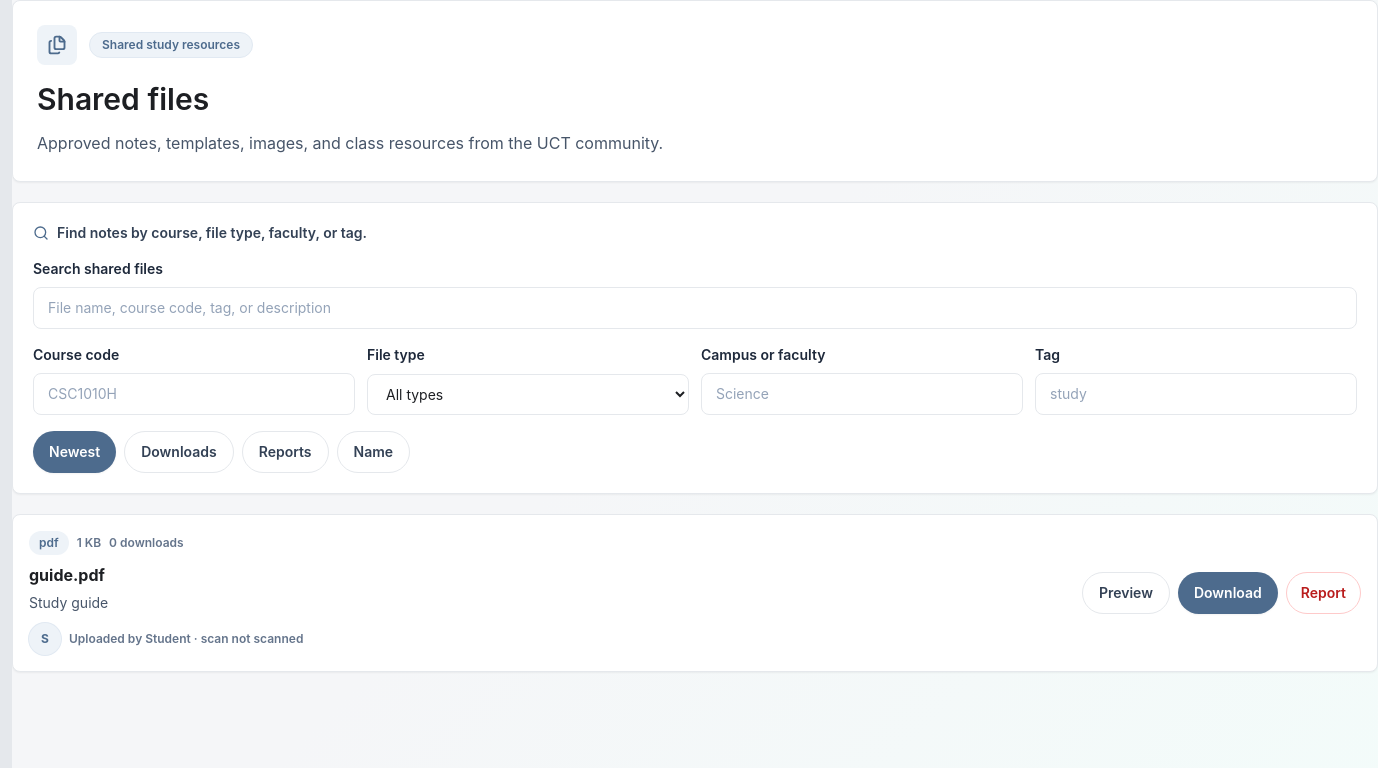
it: FilesPage › shows shared file metadata to logged-out visitors but gates file actions
Expected: the heading "guide.pdf" is shown, [29,565,105,585]
Click the button "Preview": (1126, 593) [1082,572,1170,614]
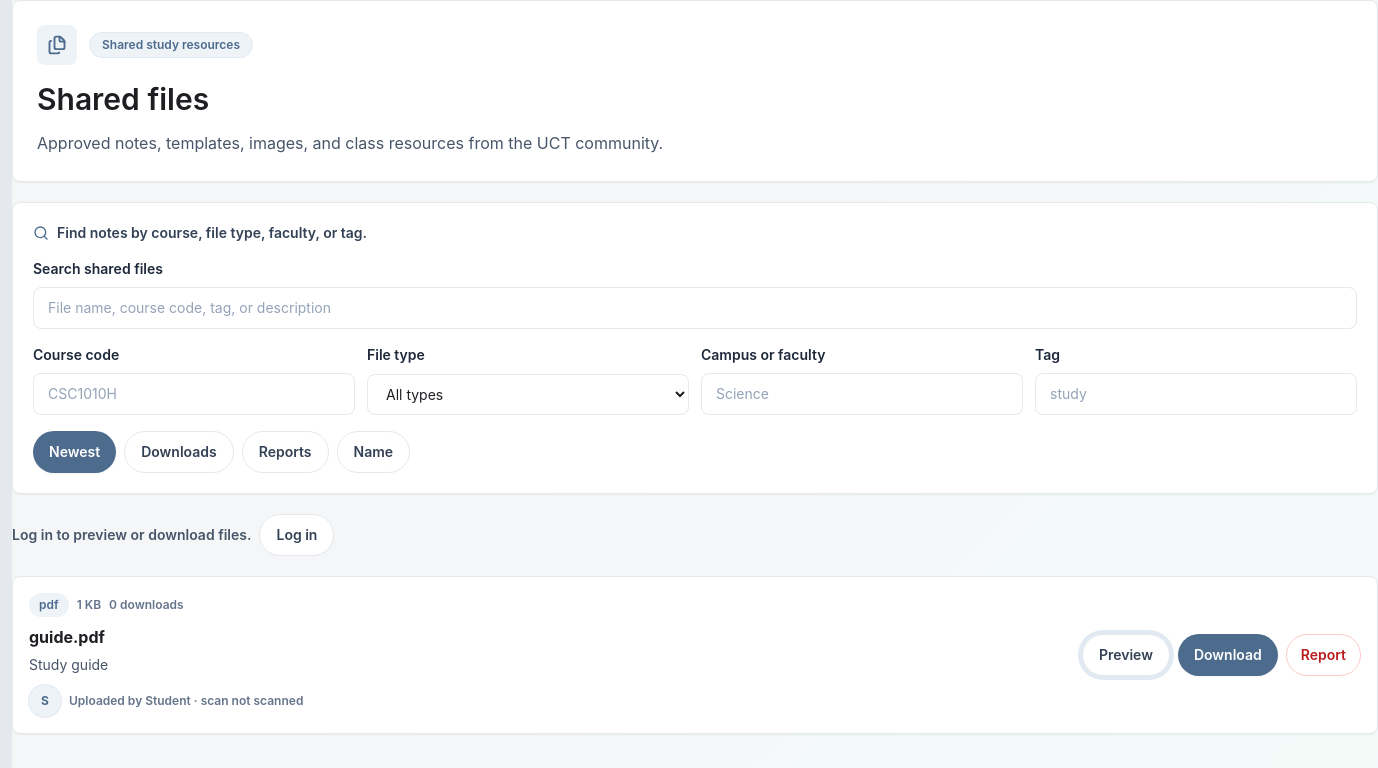
Expected: the text "Log in to preview or download files." is shown, [12,525,252,545]
Click the button "Download": (1228, 655) [1178,634,1278,676]
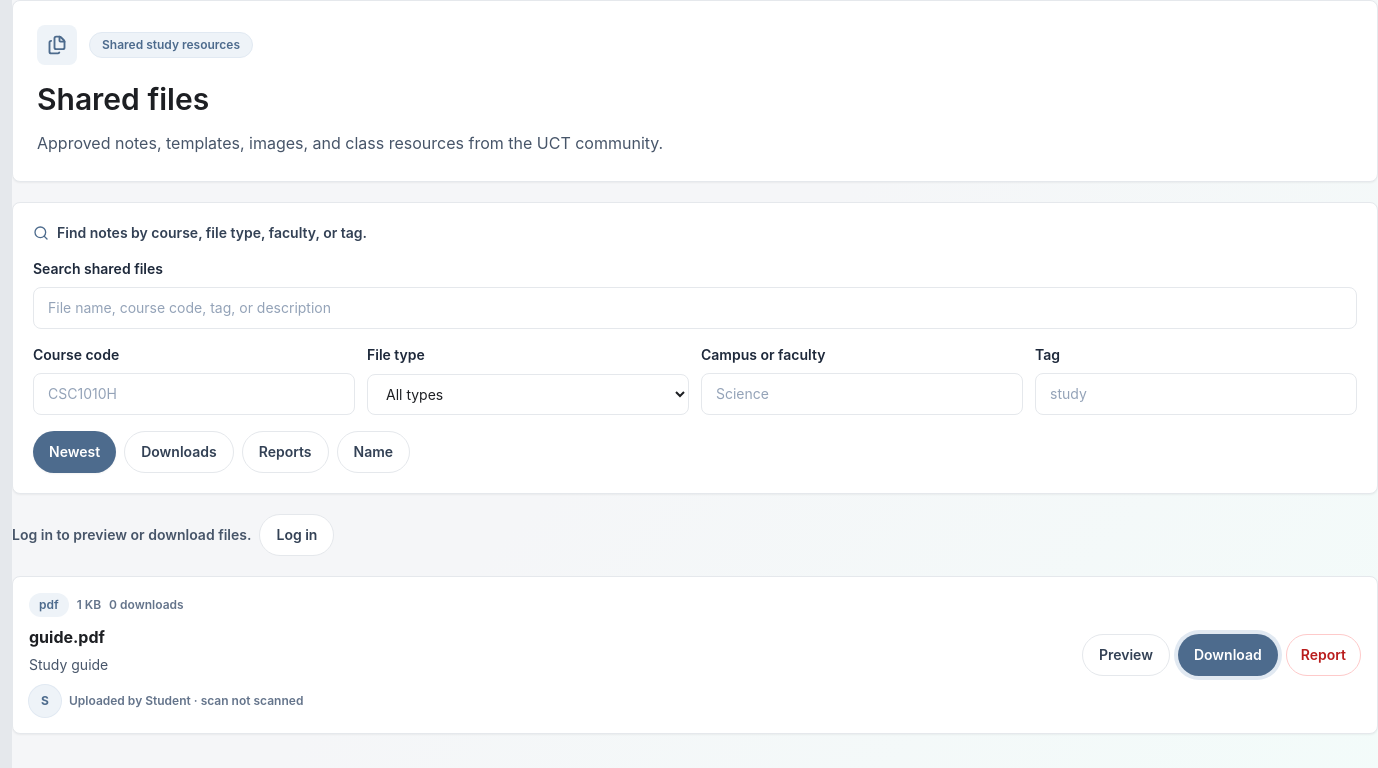
Expected: the text "Log in to preview or download files." is shown, [12,525,252,545]
Click the button with aria-label "Report guide.pdf": (1323, 655) [1286,634,1361,676]
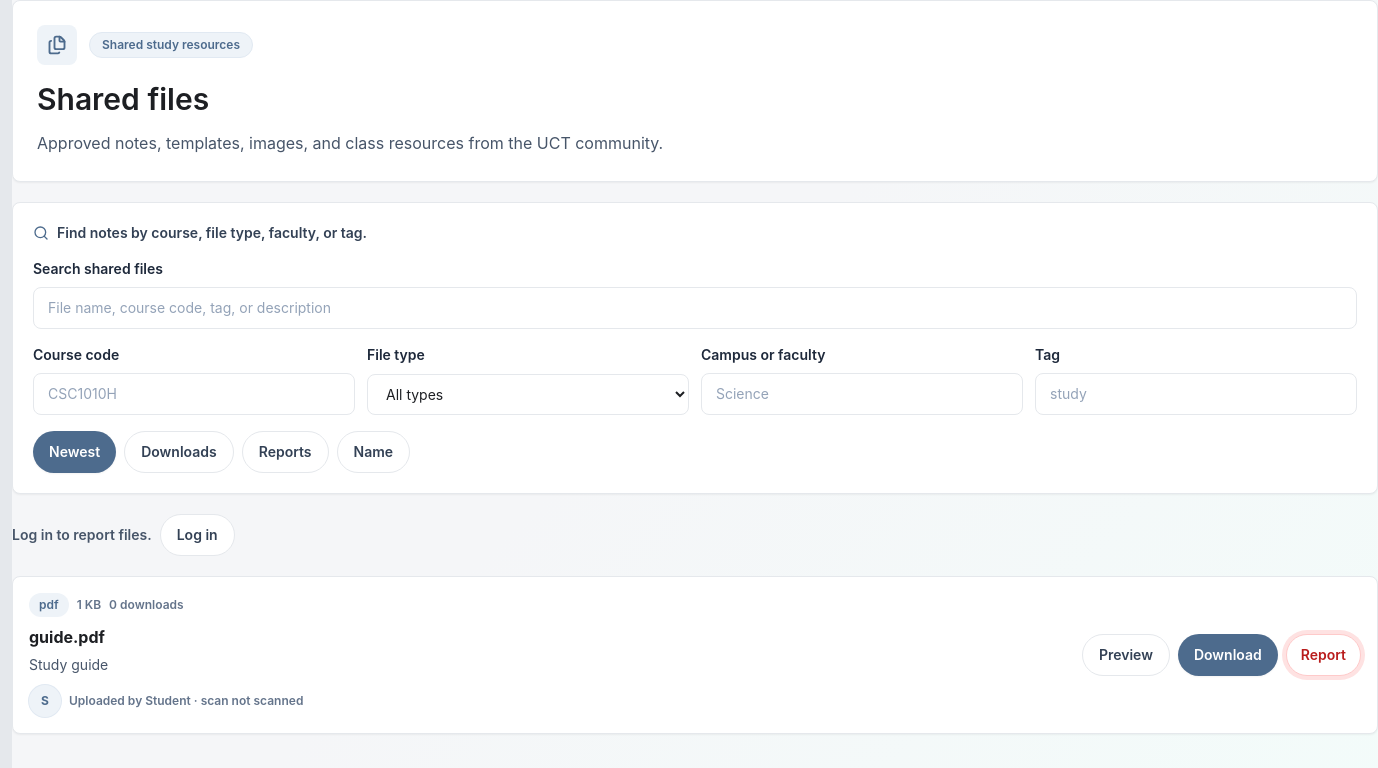
Expected: the text "Log in to report files." is shown, [12,525,152,545]
